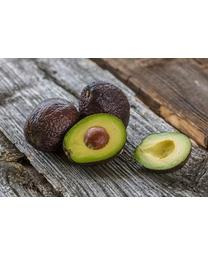avocado: (63, 113, 129, 163), (24, 99, 82, 152), (78, 81, 131, 130), (135, 131, 192, 173)
